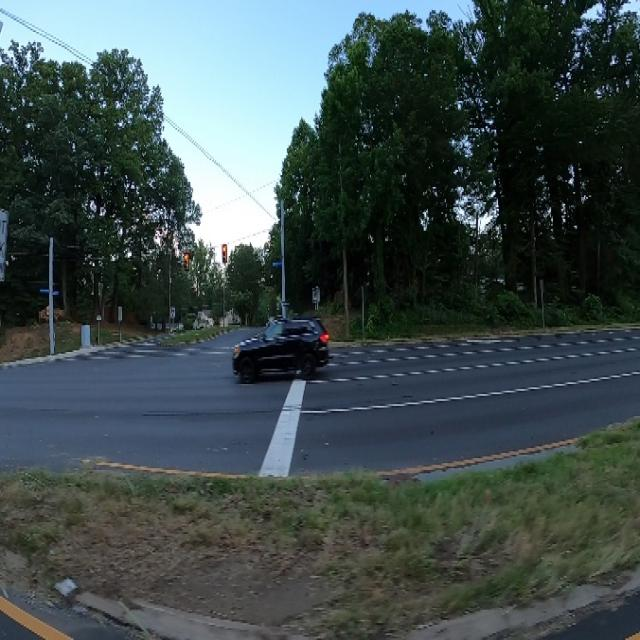cars: (225, 318, 338, 390)
